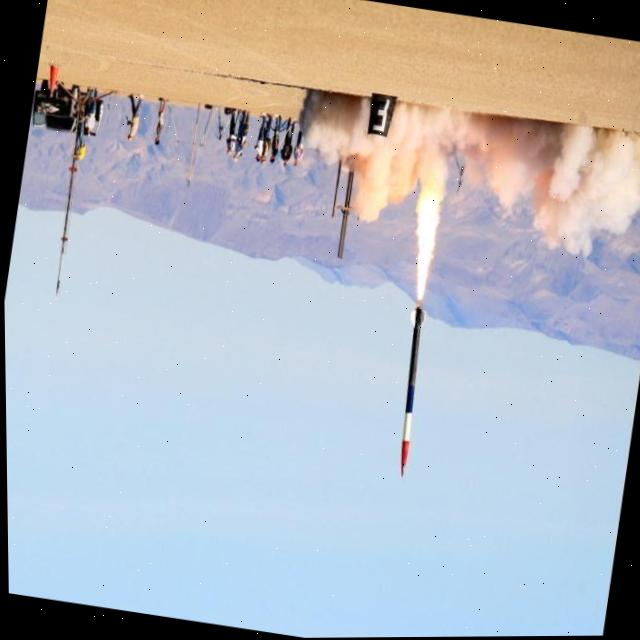missile: (380, 307, 436, 478)
